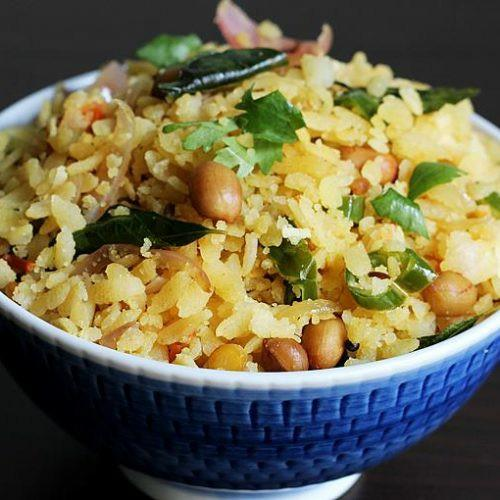Poha: (0, 0, 500, 374)
